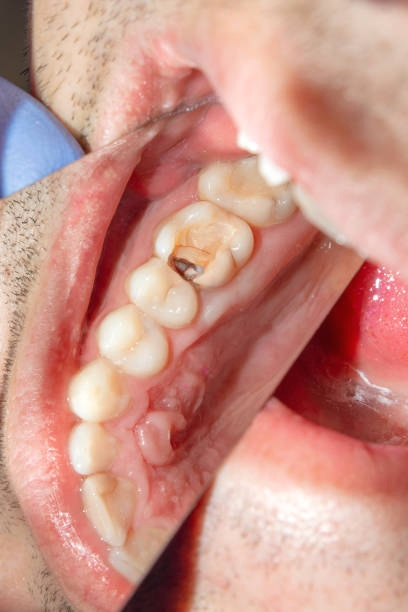Caries: (150, 234, 224, 285)
